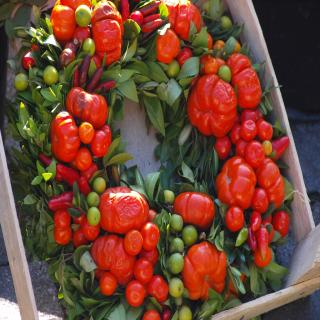tomato: (123, 228, 144, 254), (147, 274, 169, 298), (126, 280, 146, 306), (140, 221, 160, 247), (250, 188, 270, 214), (246, 140, 265, 167), (134, 258, 154, 283), (273, 210, 290, 237), (225, 206, 243, 231), (100, 271, 118, 294), (254, 245, 272, 267), (74, 148, 92, 169), (240, 121, 258, 141), (257, 119, 273, 141), (54, 226, 72, 245), (73, 6, 89, 27), (72, 228, 88, 248), (79, 122, 95, 142), (216, 135, 230, 157), (54, 209, 70, 228), (128, 10, 144, 28), (82, 39, 96, 57), (178, 47, 192, 65), (205, 57, 218, 76), (235, 138, 248, 157), (22, 49, 34, 67), (232, 122, 241, 146), (142, 248, 157, 262), (251, 210, 261, 230), (30, 42, 39, 51)
